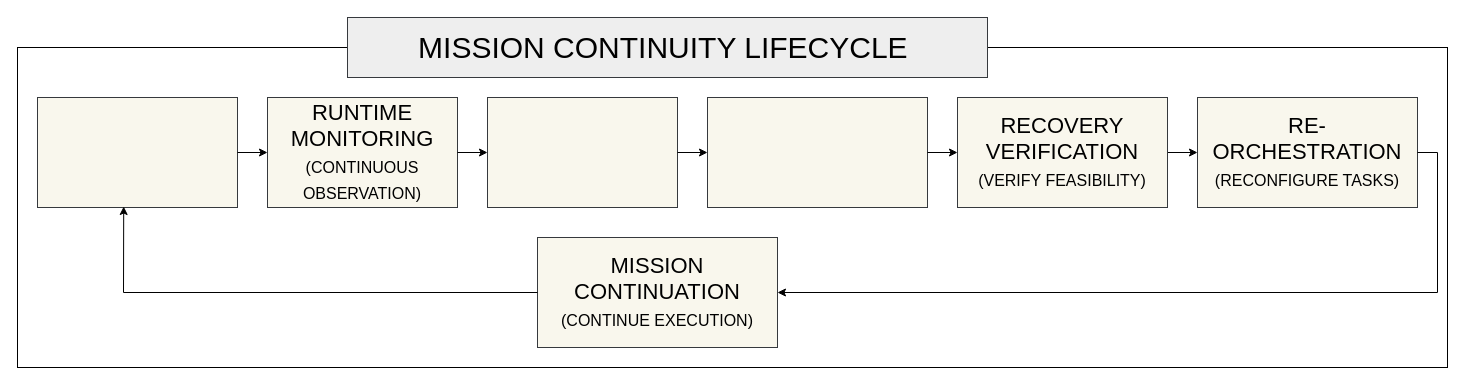
This 1465x385 diagram has some shape labels left out. The shapes that lost their labels are listed below. From the top down, each one's centre as x and y in pixels, then its label:
[137,152]: MISSION EXECUTION (EXECUTE ALLOCATED TASKS)
[582,152]: INTERRUPT DETECTION (DETECT ANOMALIES & DISRUPTIONS)
[817,152]: RECOVERY PLANNING (GENERATE RECOVERY CANDIDATES)
